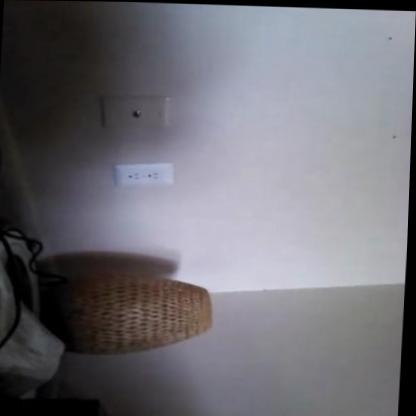OUTLET: (114, 160, 174, 186)
